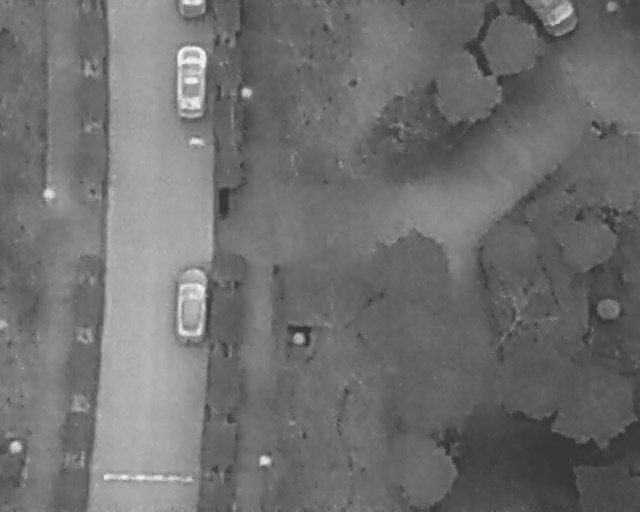Car: (172, 265, 210, 349), (178, 46, 206, 119)
